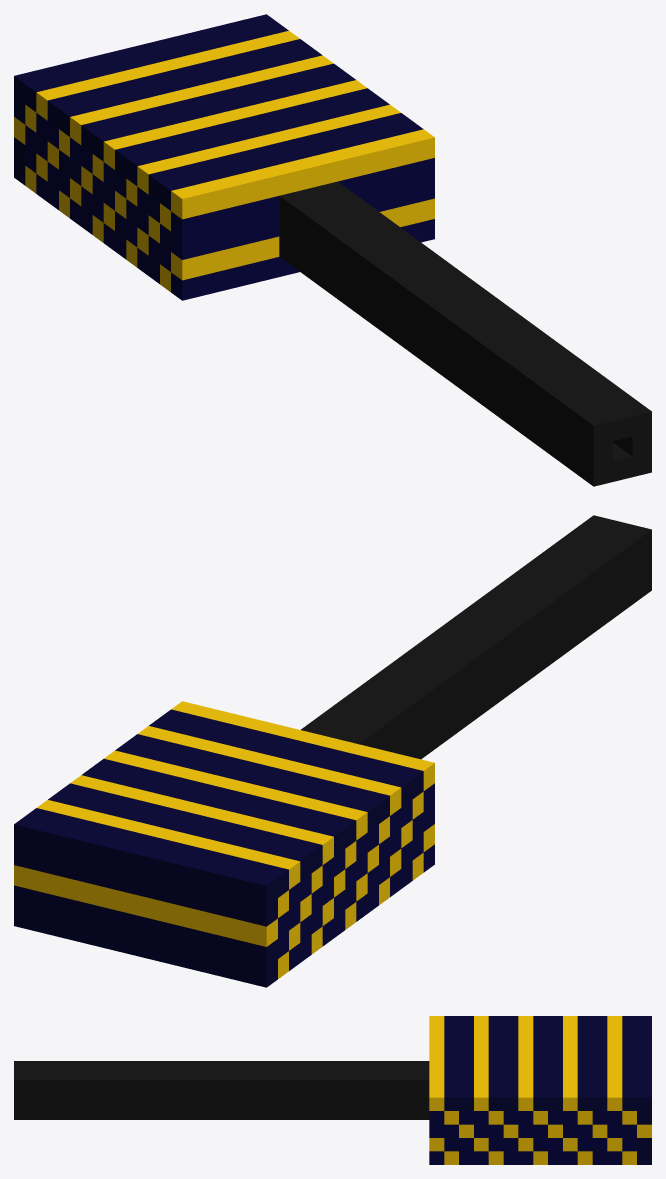
File: TankGun.obj
3 renders of one model, top to bottom at view 1: azimuth 30°, elevation 25°; view 2: azimuth 150°, elevation 25°; view 3: azimuth 270°, elevation 25°, orthographic. The views are drawn at different scales.
Size of the model in its own units: 13 by 5 by 43.
1 material, 1 textured.
